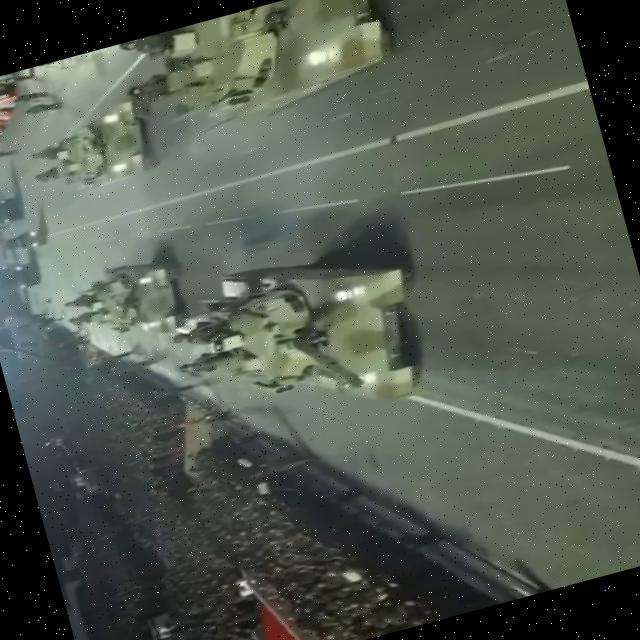north tank: (150, 210, 476, 462), (95, 0, 462, 184), (52, 213, 200, 355), (29, 100, 161, 199)
